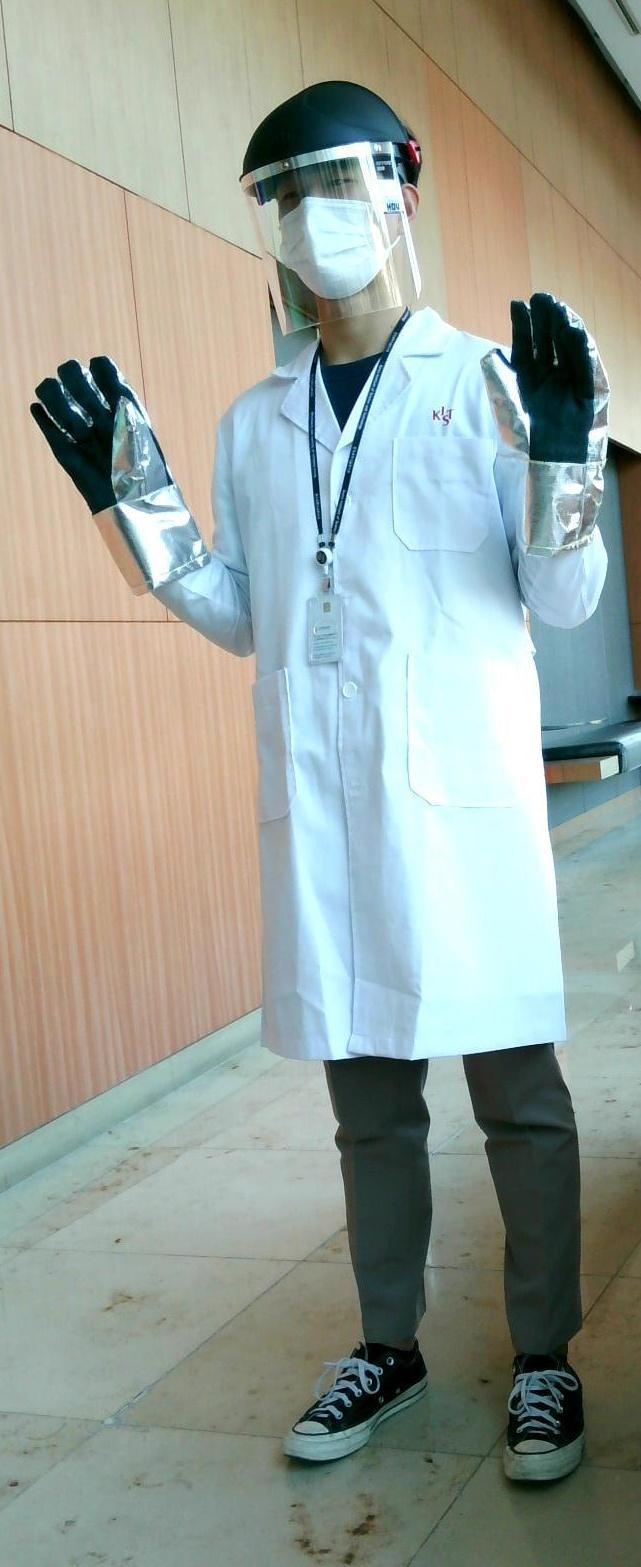lab_coat: (209, 341, 494, 1078)
